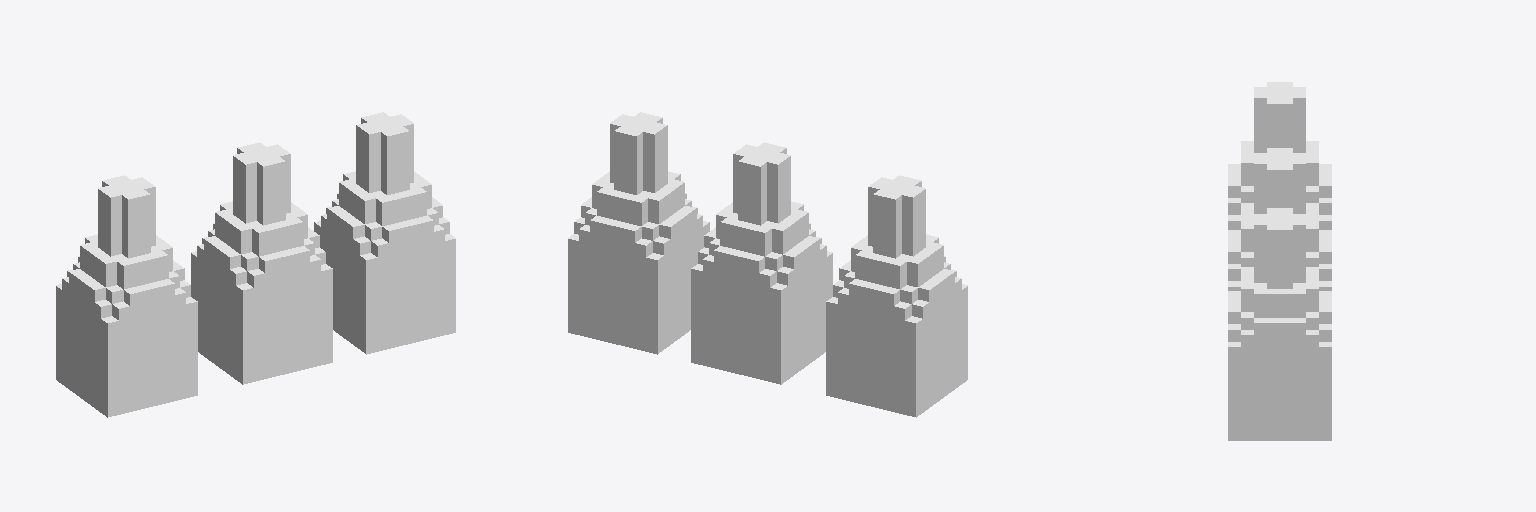
File: PotionShelf-2.obj
The picture shows the model from 3 angles: view 1: azimuth 30°, elevation 25°; view 2: azimuth 150°, elevation 25°; view 3: azimuth 270°, elevation 25°; orthographic projection.
Visible parts, largest first — view 1: object 1; view 2: object 1; view 3: object 1.
Part boxes in pixels (left/top/right/bottom): object 1: left=56, top=112, right=455, bottom=417; object 1: left=568, top=112, right=967, bottom=417; object 1: left=1228, top=82, right=1331, bottom=440.
Size of the model in its own units: 3.1 by 1.7 by 0.8.